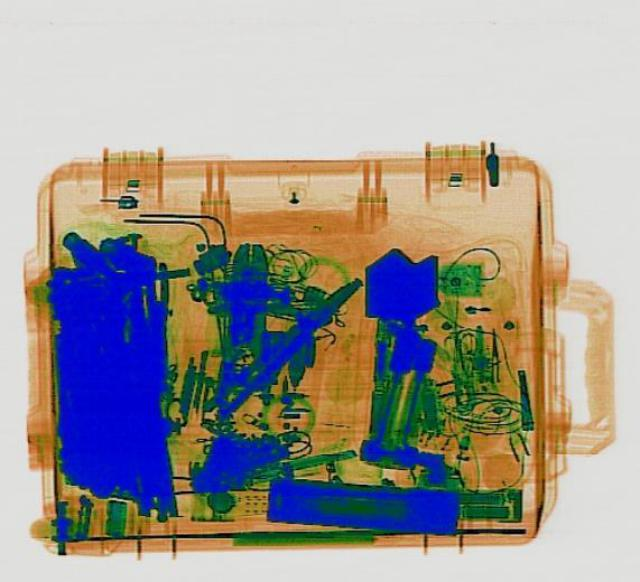Pliers: (195, 266, 368, 420), (214, 242, 270, 414)
